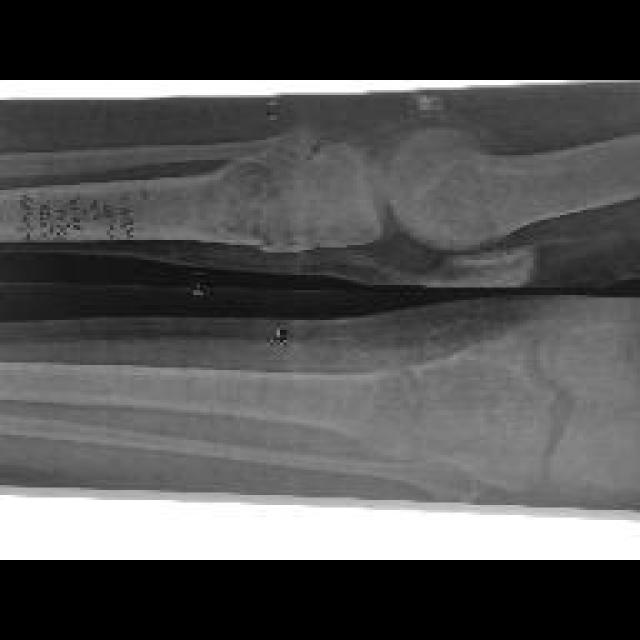bone-cancer: (332, 362, 480, 459), (220, 141, 320, 251)
